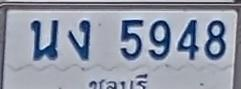4: (177, 19, 198, 60)
5: (120, 19, 144, 60)
8: (204, 18, 226, 60)
9: (148, 19, 170, 60)
A07: (68, 19, 90, 60)
A25: (30, 18, 59, 60)
CBI: (87, 72, 150, 89)
